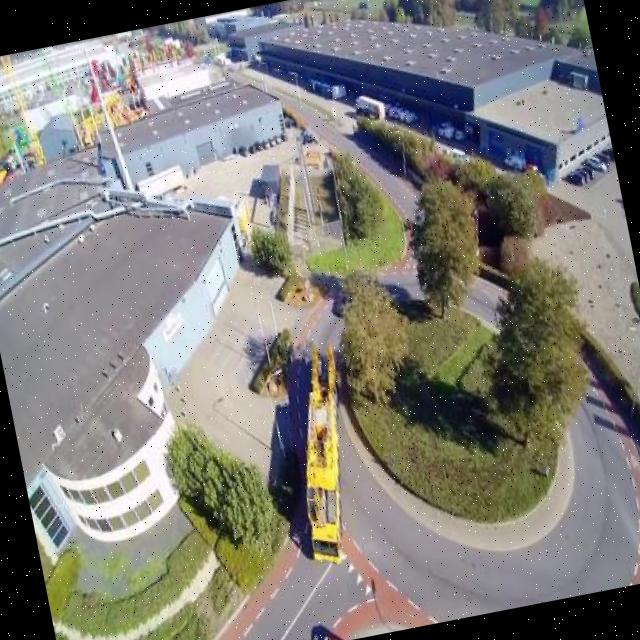Mobile Crane: (274, 340, 372, 568)
